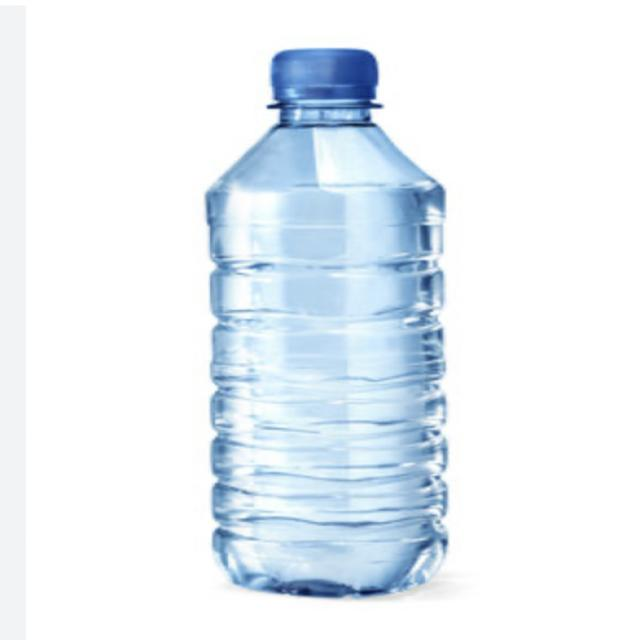recyclable: (147, 6, 525, 626)
